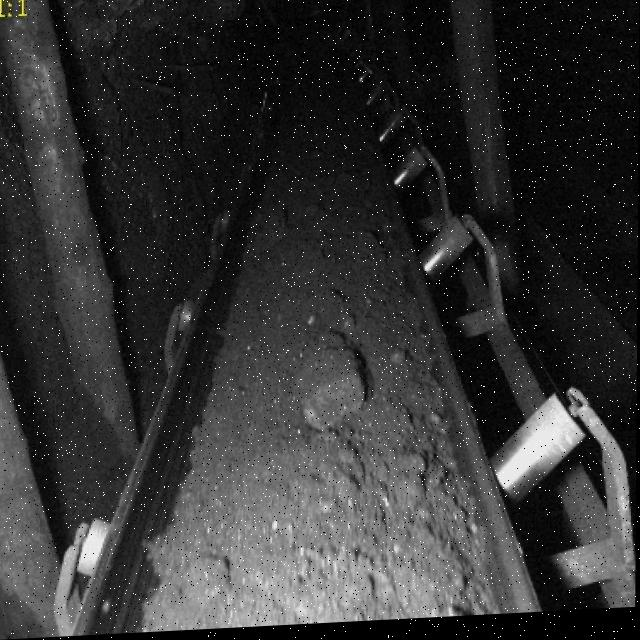large_sized_coal: (288, 342, 367, 435), (413, 608, 484, 623)
